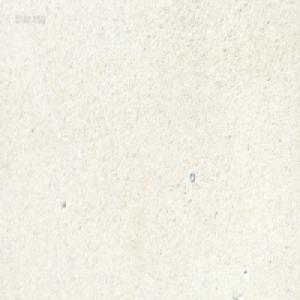Washer: (189, 171, 195, 182)
